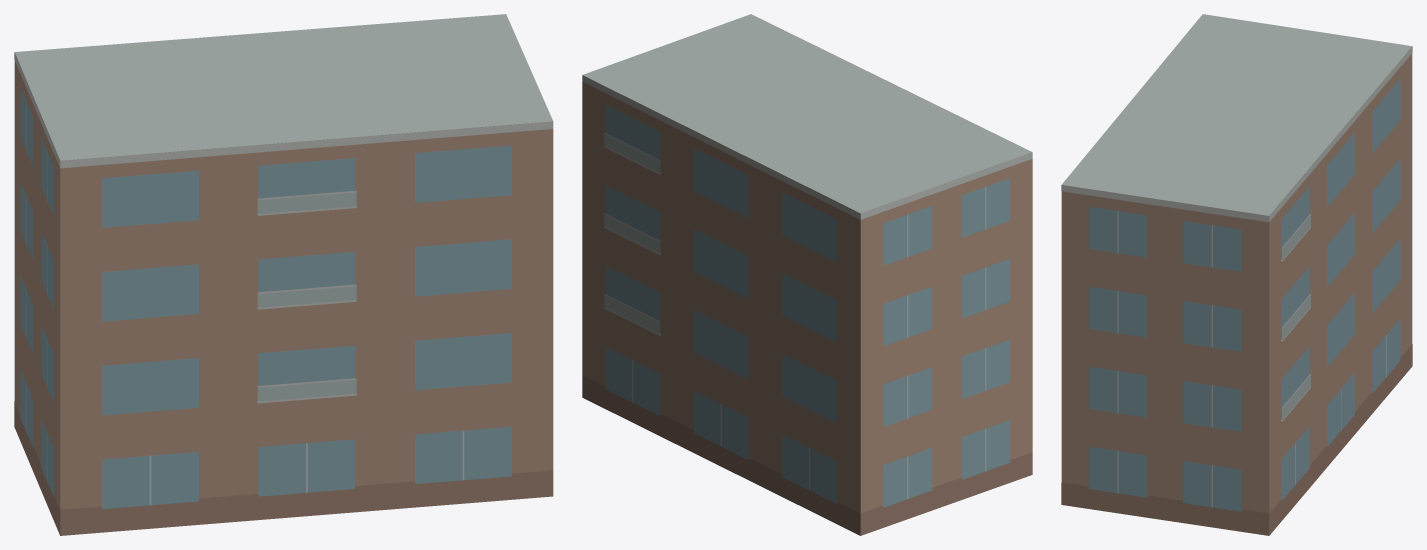
The model's file is survey-upis-32893559.glb.
The picture shows the model from 3 angles, left to right: view 1: azimuth 30°, elevation 25°; view 2: azimuth 150°, elevation 25°; view 3: azimuth 270°, elevation 25°; orthographic projection. The views are drawn at different scales.
Parts seen in each view (by area): view 1: survey-upis-32893559.tmp; view 2: survey-upis-32893559.tmp; view 3: survey-upis-32893559.tmp.
Boxes of the visible parts, left/top/right/bottom form: survey-upis-32893559.tmp: left=14, top=14, right=553, bottom=535; survey-upis-32893559.tmp: left=582, top=14, right=1032, bottom=535; survey-upis-32893559.tmp: left=1061, top=14, right=1412, bottom=535.
Bounding box in the file's own units: 16.38 × 12.1 × 12.04.
